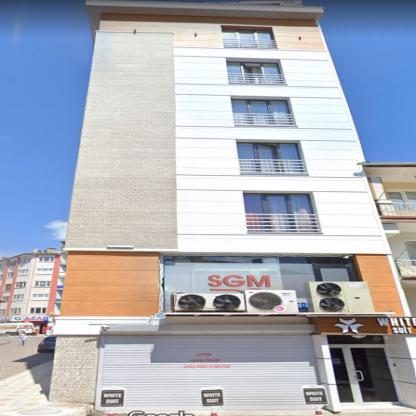door: (329, 346, 400, 406)
window: (160, 254, 358, 312), (244, 193, 320, 232), (237, 141, 309, 174), (233, 98, 293, 126), (226, 61, 286, 84), (222, 29, 277, 48), (326, 335, 384, 345), (386, 190, 414, 210), (403, 241, 414, 265), (35, 268, 52, 275), (29, 308, 46, 314), (34, 280, 50, 286), (32, 294, 48, 300), (14, 282, 28, 288), (39, 257, 54, 262), (12, 295, 23, 301), (20, 257, 31, 263), (3, 284, 10, 292), (17, 270, 28, 275), (12, 308, 21, 313), (10, 261, 16, 266), (3, 296, 8, 302), (8, 272, 12, 277)
